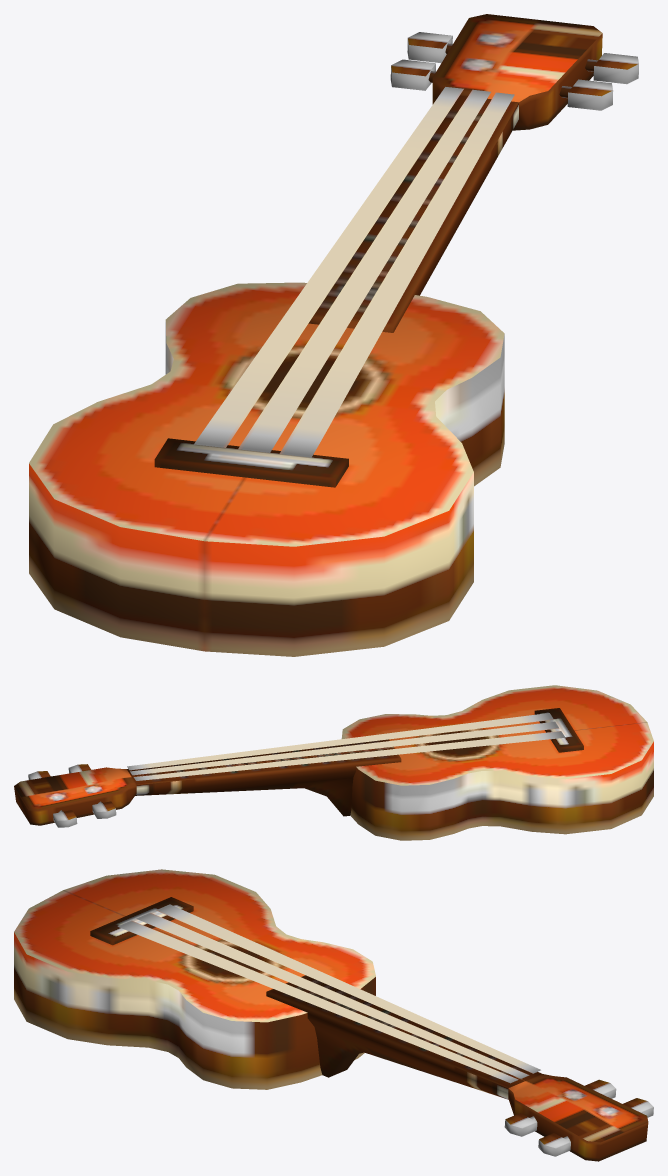
The model's file is int_isl_ukulele.dae.
The picture shows the model from 3 angles, top to bottom: view 1: azimuth 30°, elevation 25°; view 2: azimuth 150°, elevation 25°; view 3: azimuth 270°, elevation 25°; orthographic projection. The views are drawn at different scales.
Parts seen in each view (by area): view 1: int_isl_ukulele; view 2: int_isl_ukulele; view 3: int_isl_ukulele.
Part boxes in pixels (left/top/right/bottom): int_isl_ukulele: left=29, top=14, right=638, bottom=656; int_isl_ukulele: left=14, top=685, right=653, bottom=840; int_isl_ukulele: left=14, top=869, right=653, bottom=1161.
Size of the model in its own units: 29.47 by 3.87 by 29.47.
2 materials, 2 textured.
